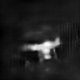plane: (21, 36, 62, 62)
